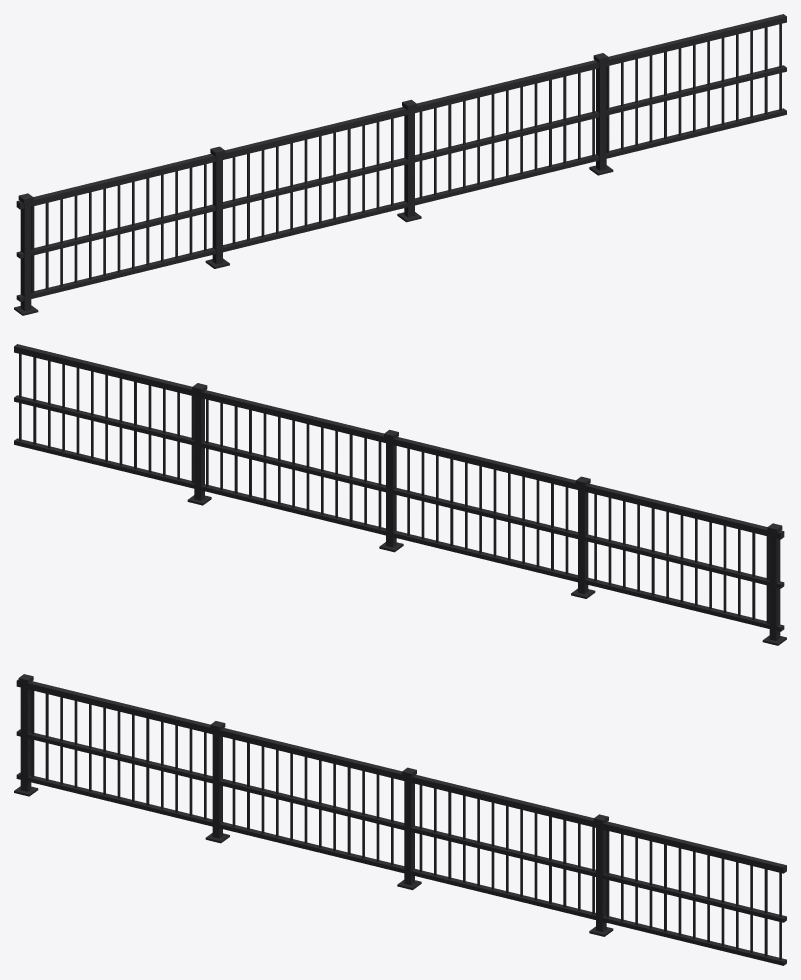
The model's file is IlsanBeachRail_LOD2.fbx.
3 renders of one model, top to bottom at view 1: azimuth 30°, elevation 25°; view 2: azimuth 150°, elevation 25°; view 3: azimuth 330°, elevation 25°, orthographic.
Parts seen in each view (by area): view 1: IlsanBeachRail_LOD2; view 2: IlsanBeachRail_LOD2; view 3: IlsanBeachRail_LOD2.
Part boxes in pixels (x1,y1,x2,y2): IlsanBeachRail_LOD2: [14, 14, 786, 315]; IlsanBeachRail_LOD2: [14, 344, 786, 645]; IlsanBeachRail_LOD2: [14, 674, 786, 965].
Size of the model in its own units: 8 by 1.14 by 0.16.
Materials: 1 (1 with a texture image).
